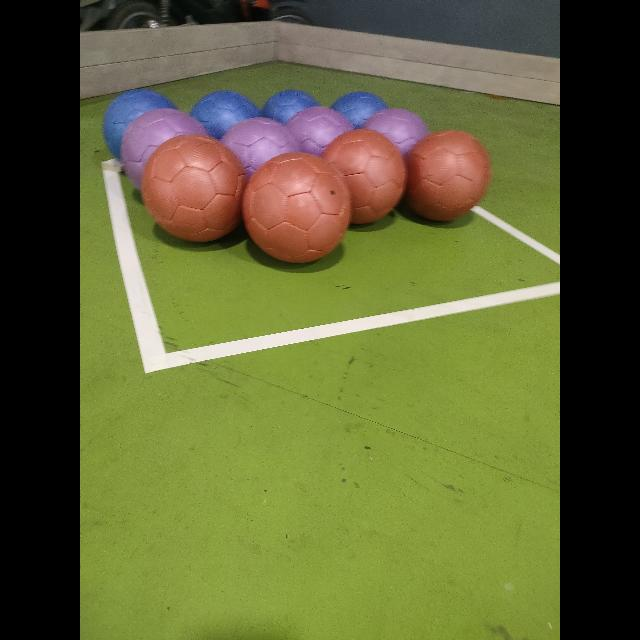B: (103, 89, 175, 159), (190, 90, 260, 140), (330, 91, 388, 127), (261, 90, 319, 124)
P: (120, 109, 210, 190), (220, 118, 302, 178), (359, 108, 428, 156)
R: (243, 152, 351, 262), (142, 134, 246, 242), (405, 130, 491, 220), (322, 130, 404, 224)
